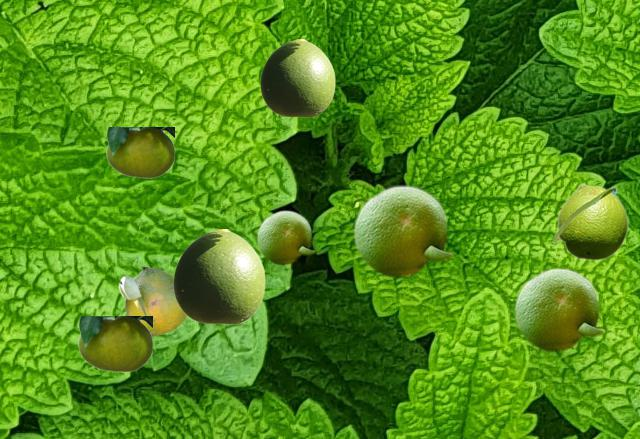dalandan: (352, 183, 454, 277), (173, 229, 264, 323), (513, 266, 605, 351), (551, 183, 628, 260), (260, 39, 334, 116), (118, 267, 186, 335), (78, 316, 151, 371), (106, 127, 173, 177), (256, 209, 315, 264)
